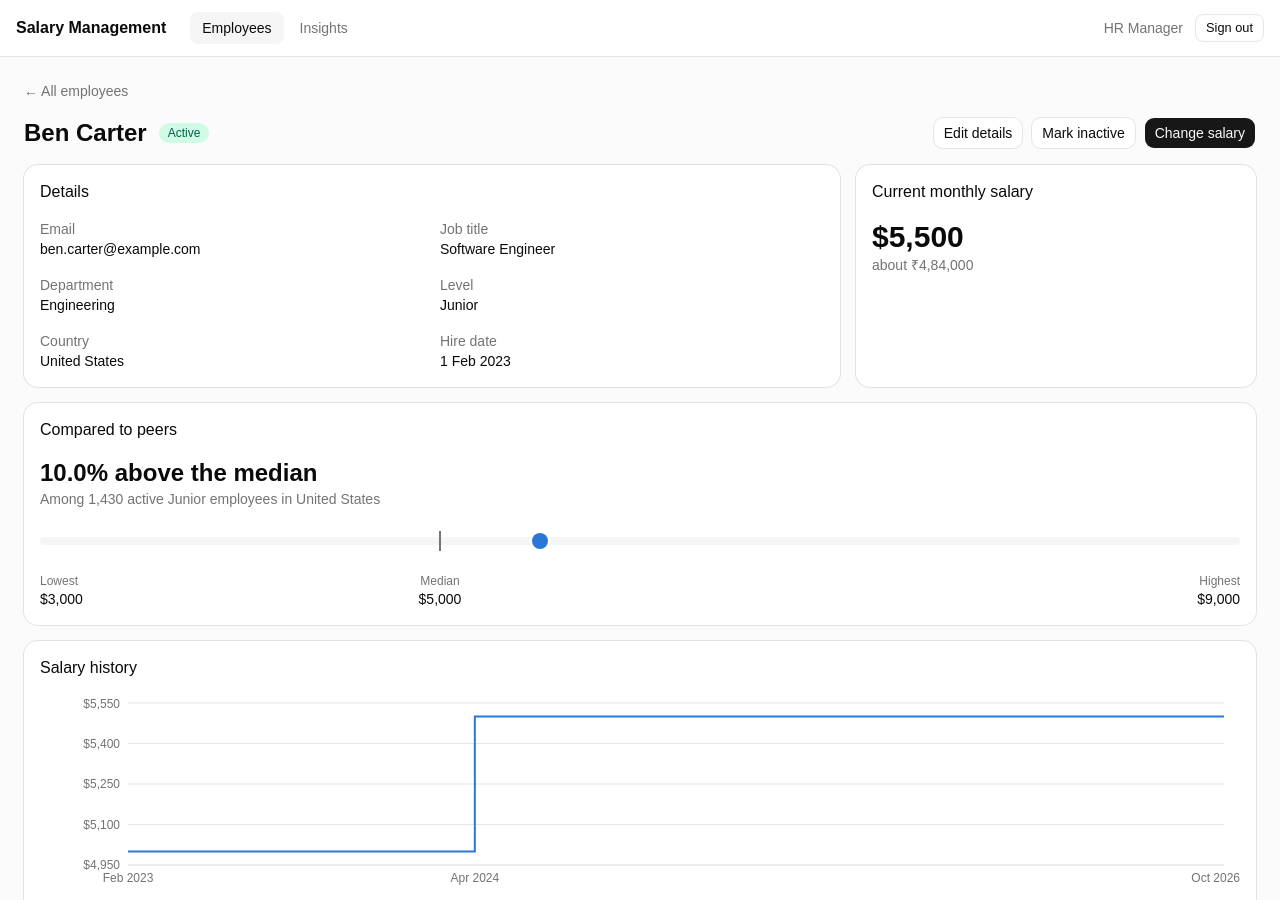
changing a salary › rejects an amount of "0" before saving
Click the button "Change salary" at (1200, 133), box [1144, 117, 1256, 149]
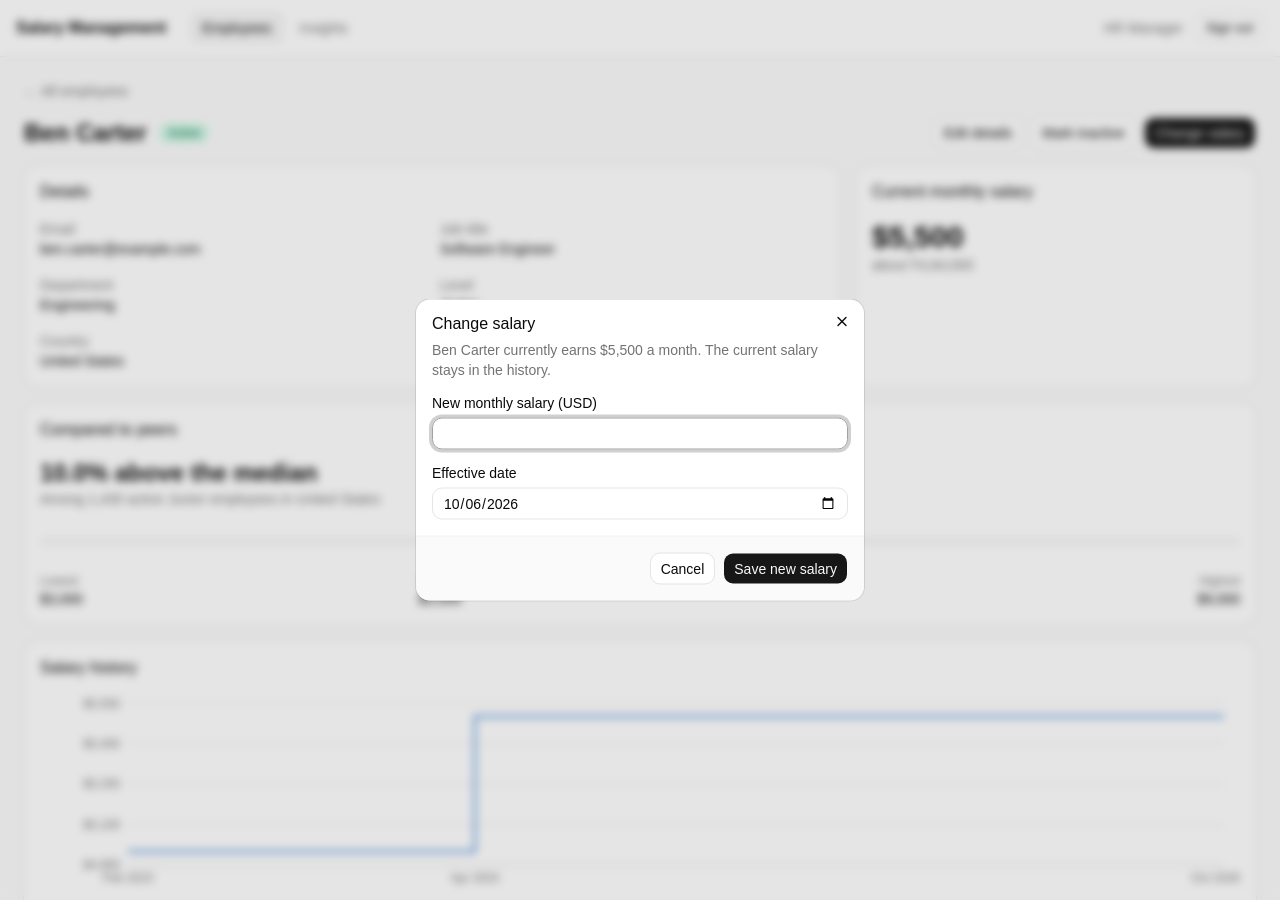
Type "0" into the field labelled "New monthly salary (USD)" at (640, 434), box [432, 418, 848, 450]
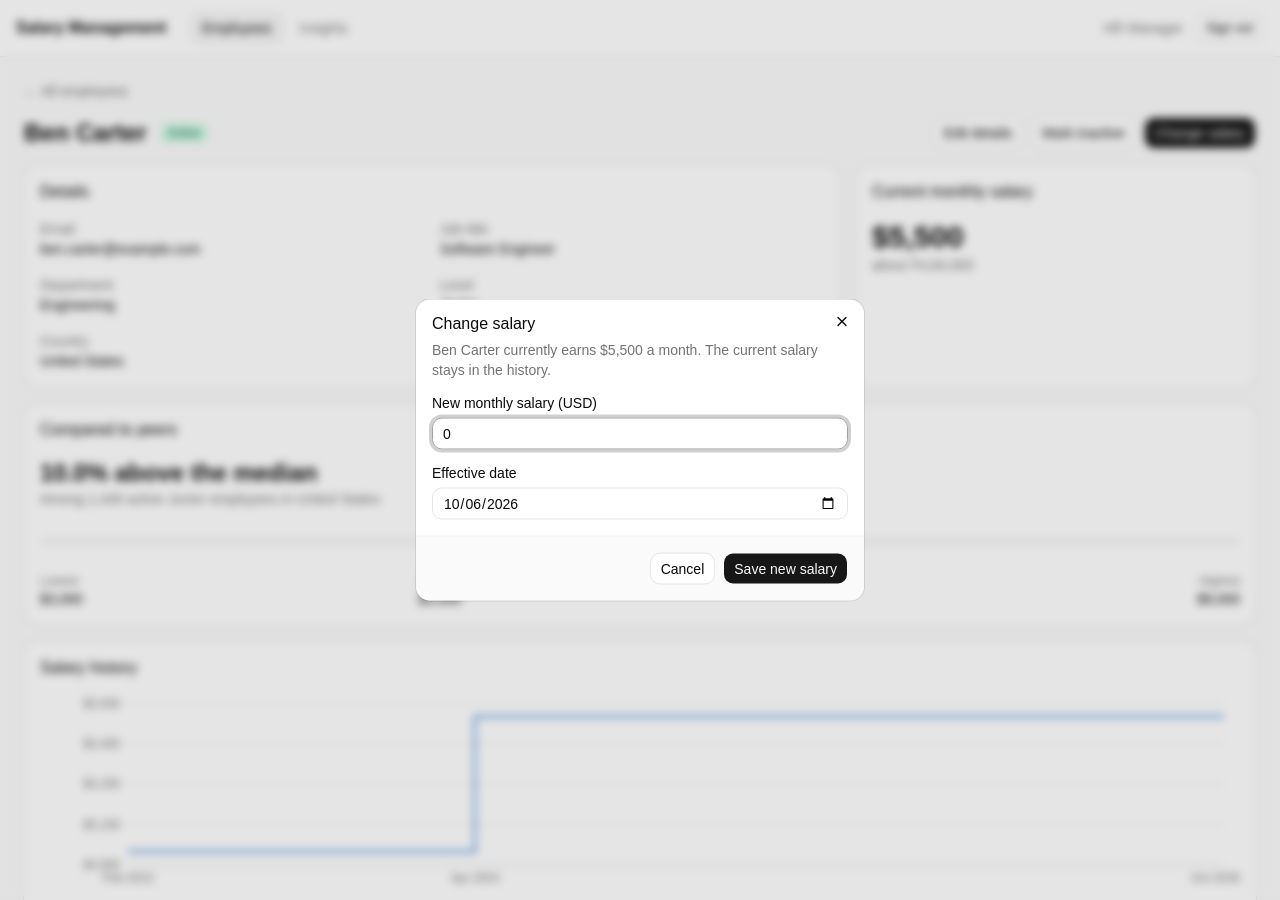
Click the button "Save new salary" at (786, 568), box [723, 552, 848, 584]
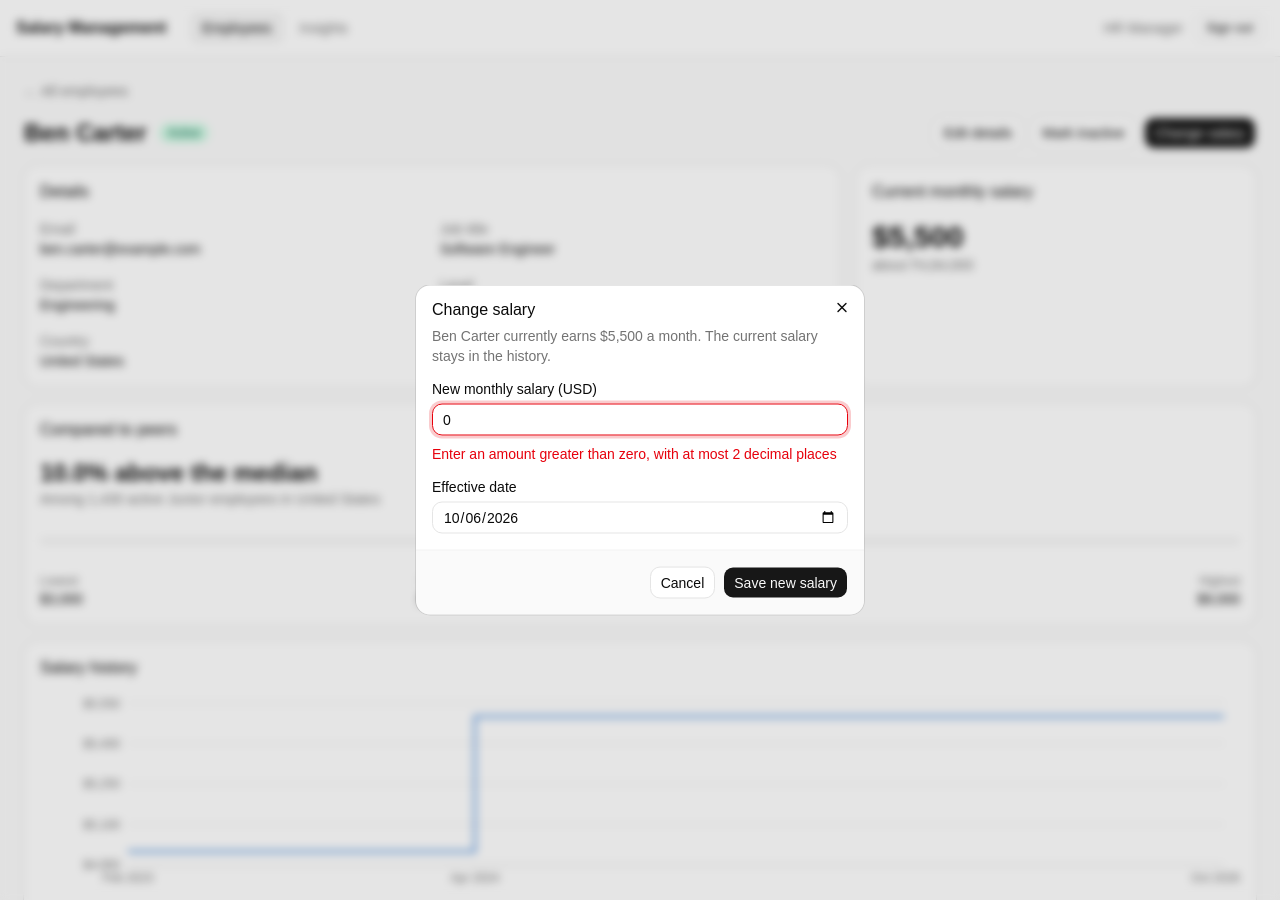
Result: the text "Enter an amount greater than zero, with at most 2 decimal places" is shown at [432, 444, 848, 464]
